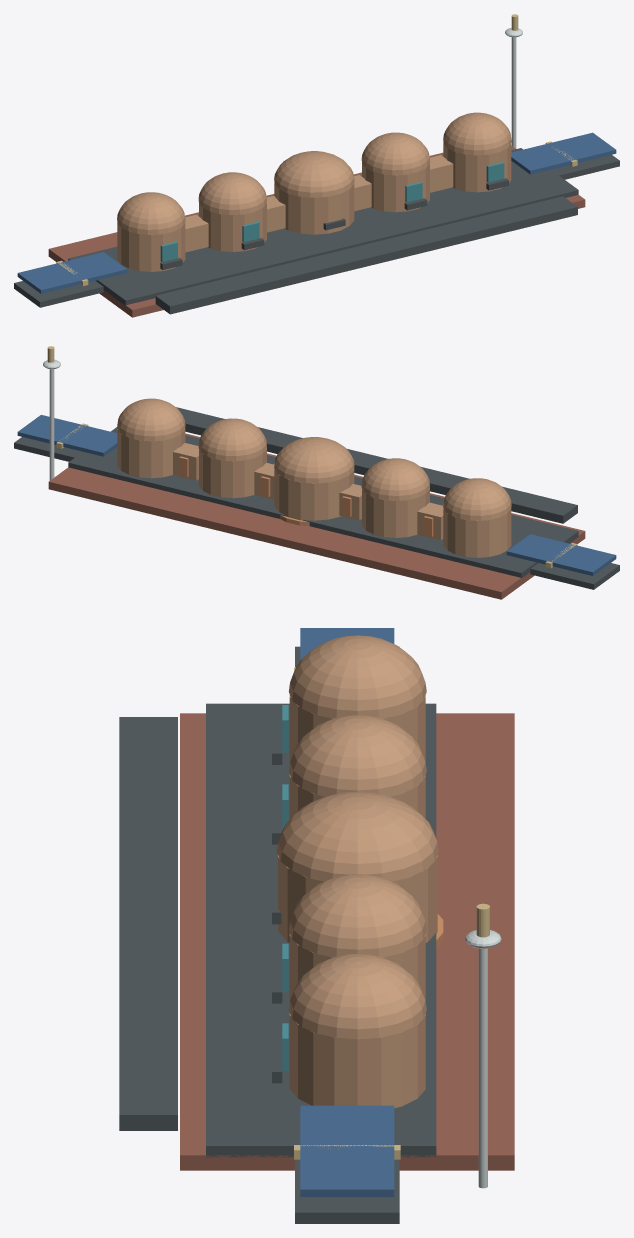
The model's file is mars_habitat.glb.
The picture shows the model from 3 angles, top to bottom: view 1: azimuth 30°, elevation 25°; view 2: azimuth 150°, elevation 25°; view 3: azimuth 270°, elevation 25°; orthographic projection. The views are drawn at different scales.
Parts seen in each view (by area): view 1: box/graphite (×4), dome/sand (×5), cylinder/sand (×5), box/solar (×2), box/sand (×4), box/rust, cylinder/silver; view 2: box/graphite (×4), box/rust, dome/sand (×5), cylinder/sand (×5), box/solar (×2), box/sand (×4), cylinder/silver; view 3: box/graphite (×3), dome/sand (×5), box/rust, cylinder/sand (×5), box/solar (×2), cylinder/silver.
Part boxes in pixels (x1,y1,x2,y2): box/graphite (×4): (14, 148, 619, 314); dome/sand (×5): (117, 112, 511, 234); cylinder/sand (×5): (117, 142, 511, 271); box/solar (×2): (17, 132, 616, 293); box/sand (×4): (185, 155, 453, 252); box/rust: (48, 145, 585, 317); cylinder/silver: (511, 37, 516, 148); box/graphite (×4): (14, 407, 619, 589); box/rust: (48, 433, 585, 599); dome/sand (×5): (117, 398, 511, 520); cylinder/sand (×5): (117, 429, 511, 557); box/solar (×2): (17, 415, 616, 575); box/sand (×4): (173, 443, 443, 540); cylinder/silver: (49, 369, 54, 480); box/graphite (×3): (119, 703, 436, 1223); dome/sand (×5): (276, 635, 438, 1039); box/rust: (180, 713, 514, 1170); cylinder/sand (×5): (278, 695, 437, 1108); box/solar (×2): (300, 628, 394, 1196); cylinder/silver: (478, 948, 487, 1188).
Bounding box in the file's own units: 12.8 × 2.98 × 3.78.
